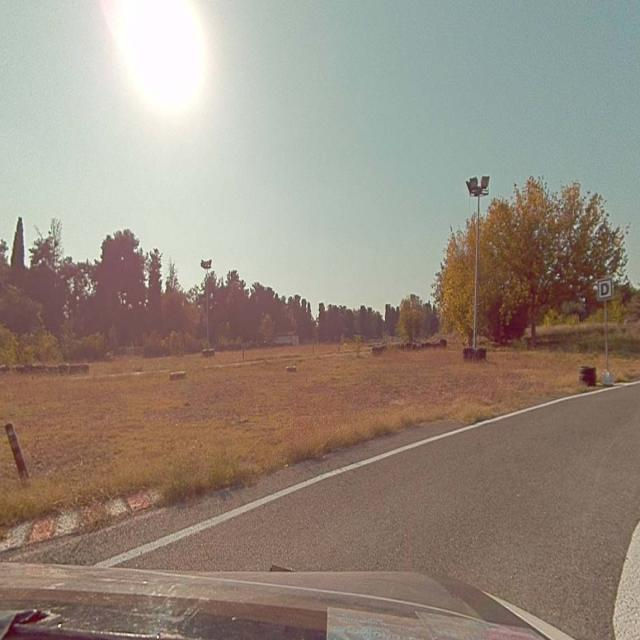durak: (598, 279, 612, 300)
